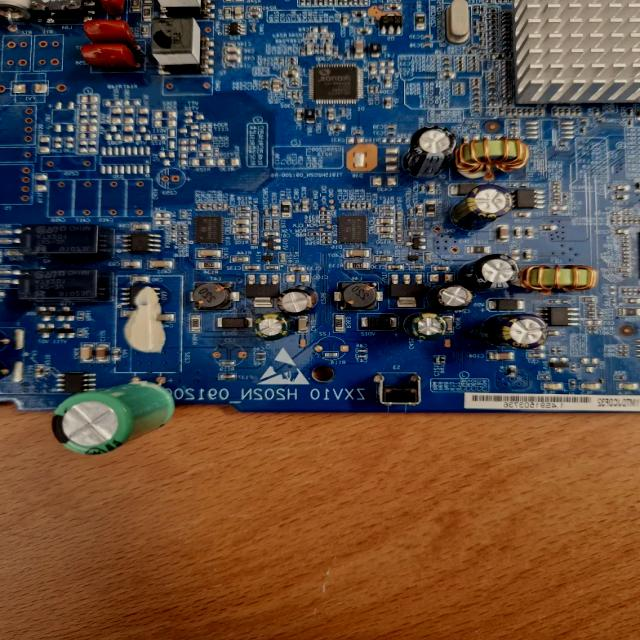A: (458, 138, 529, 178), (522, 265, 596, 293)
C: (53, 382, 174, 454), (453, 186, 514, 230), (406, 126, 456, 176), (486, 315, 548, 348), (463, 254, 519, 290), (278, 286, 317, 316), (406, 312, 446, 340), (433, 284, 472, 310), (255, 314, 293, 339)
